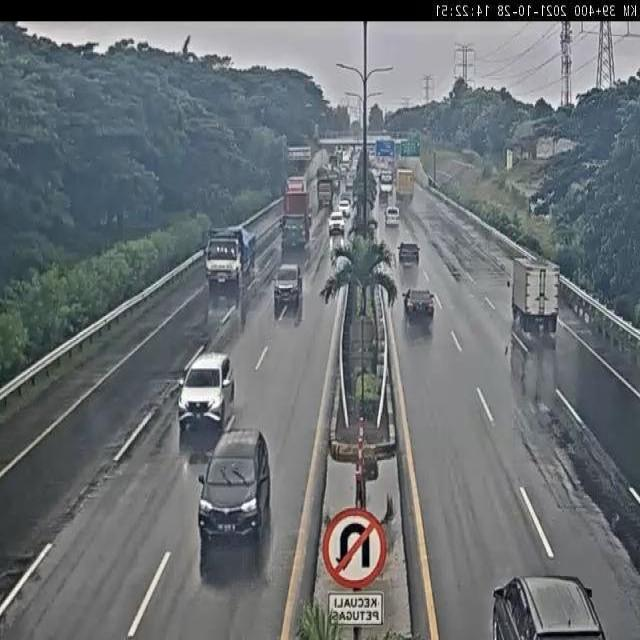Bus: (379, 170, 393, 194)
Car: (197, 428, 272, 570), (178, 351, 236, 439), (272, 263, 302, 312), (403, 289, 435, 322), (398, 241, 420, 266), (328, 211, 345, 235), (338, 196, 352, 218)
Truck: (512, 257, 561, 336), (204, 225, 256, 298), (282, 178, 312, 252), (396, 167, 415, 204), (316, 175, 335, 211)
Van: (385, 206, 401, 226)
